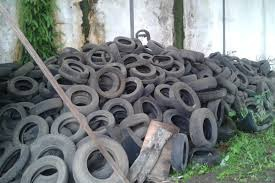tire: (72, 137, 127, 183), (28, 134, 77, 173), (17, 154, 68, 183), (188, 106, 220, 149), (187, 106, 218, 150), (16, 114, 50, 149), (50, 110, 87, 142), (93, 64, 126, 99), (170, 81, 202, 115), (95, 67, 129, 98), (1, 144, 29, 180), (65, 86, 103, 112), (82, 109, 116, 135), (8, 76, 41, 101), (30, 97, 66, 119), (169, 132, 188, 173), (155, 83, 186, 108), (87, 46, 117, 70), (60, 58, 90, 80), (119, 76, 144, 99), (208, 97, 226, 128), (129, 60, 157, 78), (114, 36, 136, 51), (234, 72, 250, 89)
